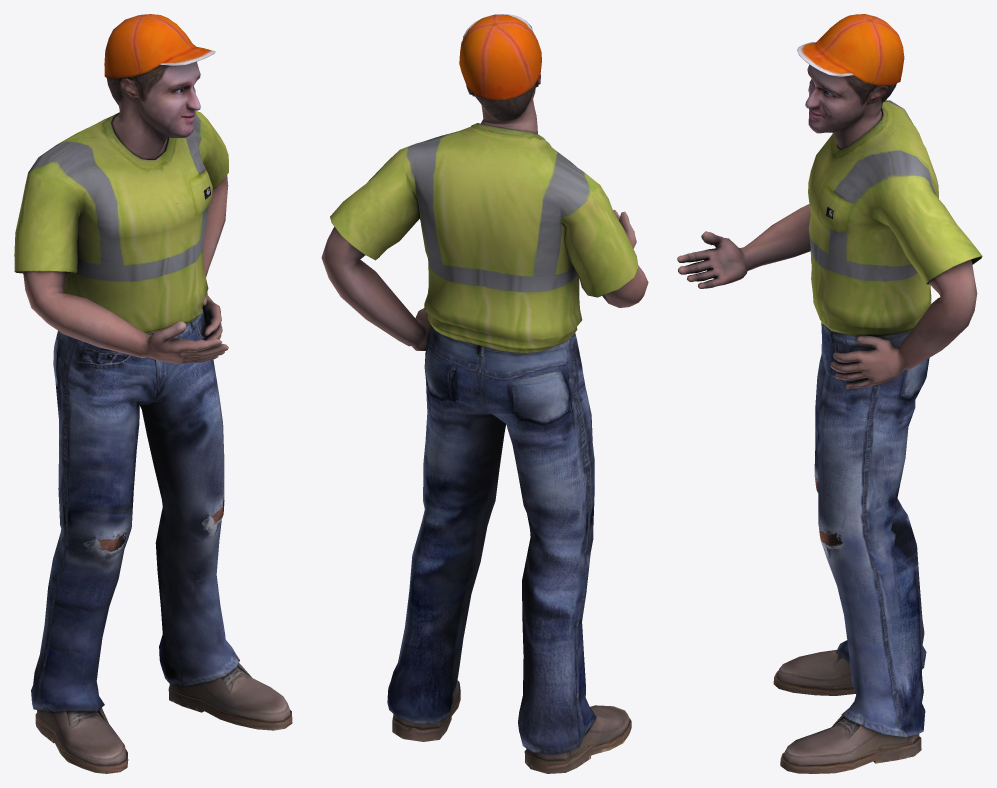
Rendered from SWRK01_05_01.FBX.
3 views of the same model, side by side, from view 1: azimuth 30°, elevation 25°; view 2: azimuth 150°, elevation 25°; view 3: azimuth 270°, elevation 25° (orthographic).
Parts seen in each view (by area): view 1: SWRK01_05_01; view 2: SWRK01_05_01; view 3: SWRK01_05_01.
Part boxes in pixels (x1,y1,x2,y2): SWRK01_05_01: (14,14,292,773); SWRK01_05_01: (321,14,648,773); SWRK01_05_01: (677,14,982,773).
Size of the model in its own units: 26.6 by 69.74 by 27.47.
1 material, 1 textured.
